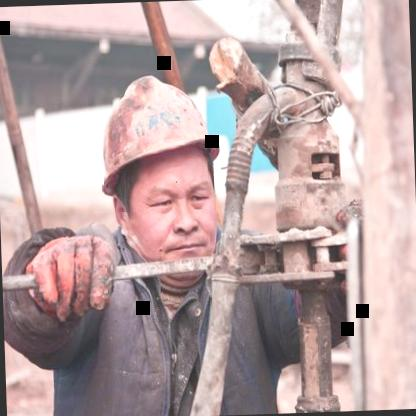helmet: (78, 53, 242, 281)
